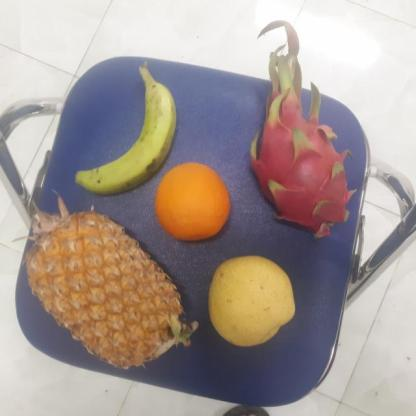banana: (80, 74, 174, 198)
orange: (150, 163, 230, 239)
pear: (203, 256, 296, 345)
pineapple: (22, 217, 189, 373)
pitaya: (243, 90, 363, 233)
